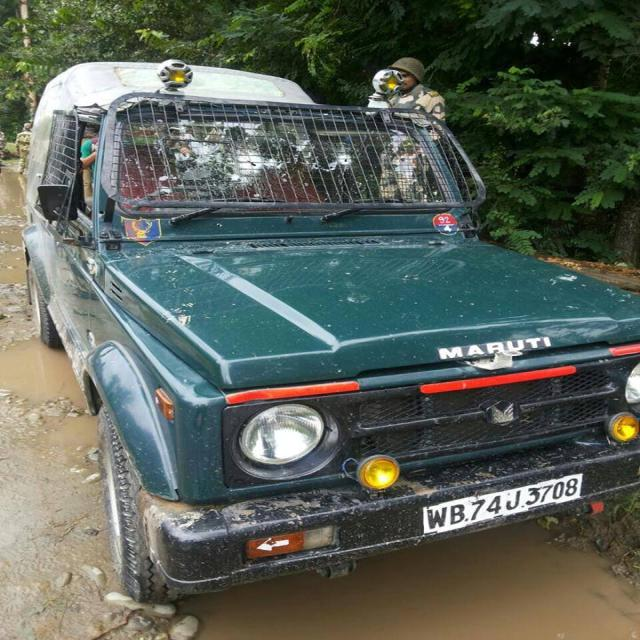plate: (422, 470, 586, 536)
